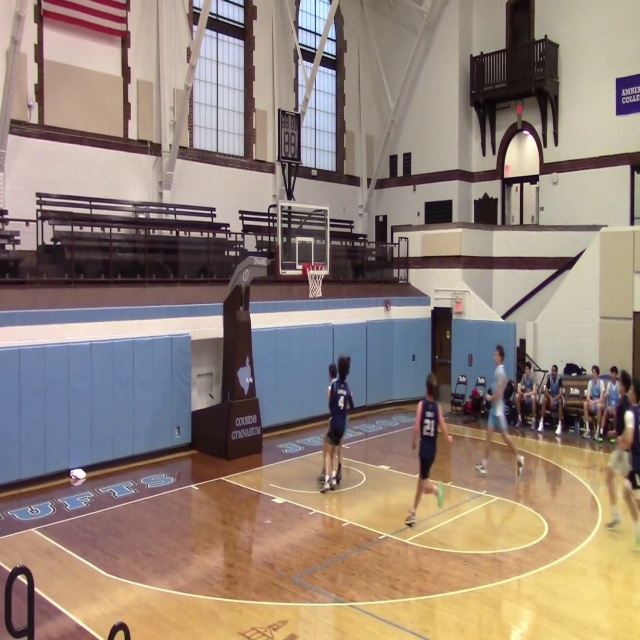Basketball: (69, 468, 86, 486), (329, 363, 337, 378), (609, 438, 616, 443)
